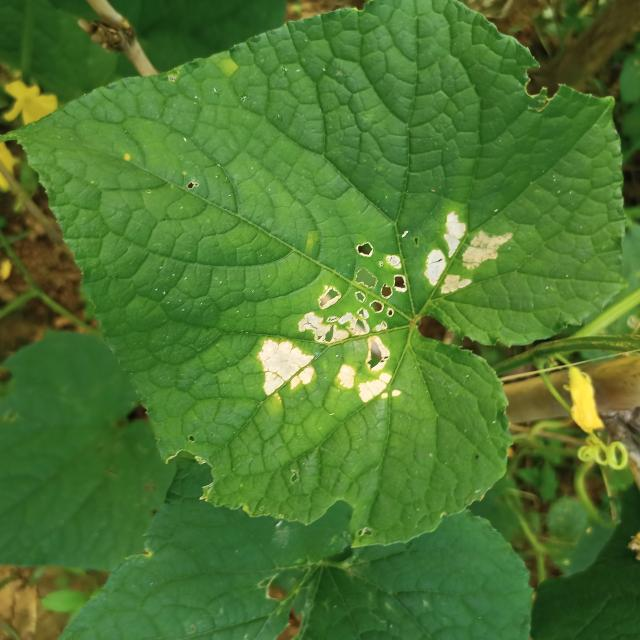disease_cucumber: (254, 237, 414, 415), (418, 202, 516, 299)
